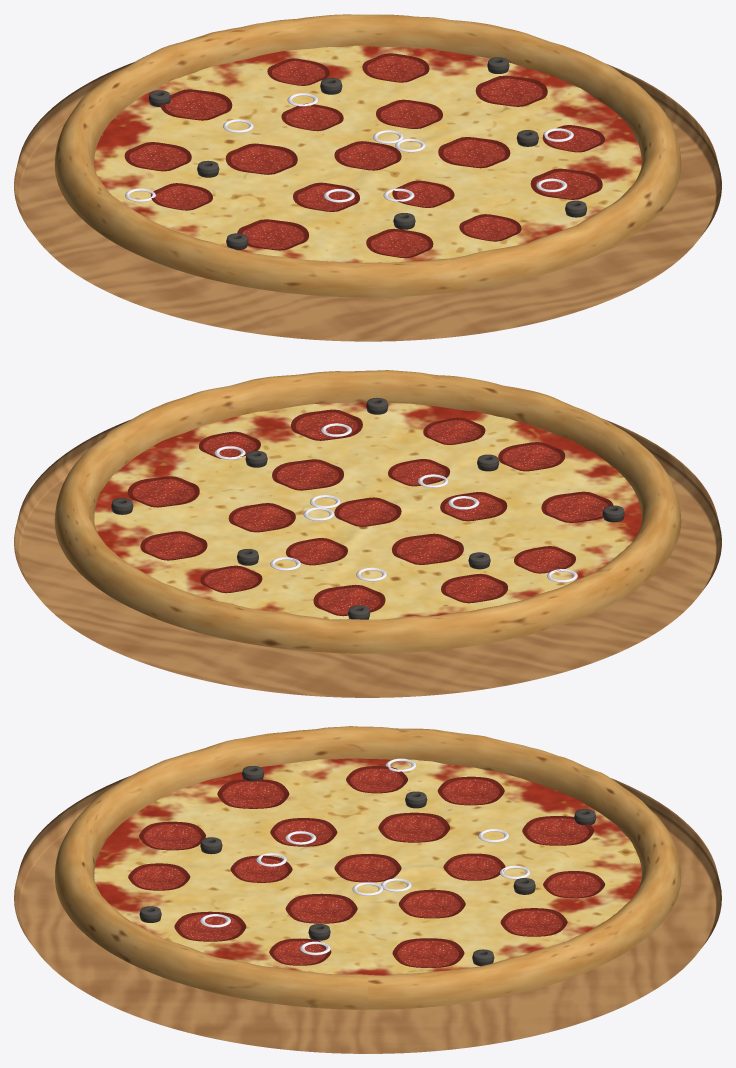
Rendered from pizza.glb.
The picture shows the model from 3 angles, top to bottom: view 1: azimuth 30°, elevation 25°; view 2: azimuth 150°, elevation 25°; view 3: azimuth 270°, elevation 25°; orthographic projection.
Parts seen in each view (by area): view 1: pizza; view 2: pizza; view 3: pizza.
Part boxes in pixels (box(x1,y1,x2,y2)): pizza: box(14, 14, 721, 341); pizza: box(14, 370, 721, 697); pizza: box(14, 726, 721, 1053).
Bounding box in the file's own units: 0.432 × 0.0398 × 0.432.
6 materials, 4 textured.
